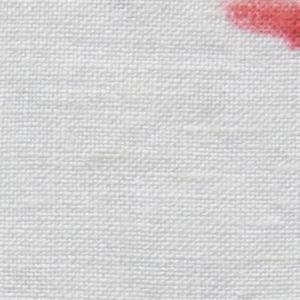Stain: (220, 1, 300, 54)
